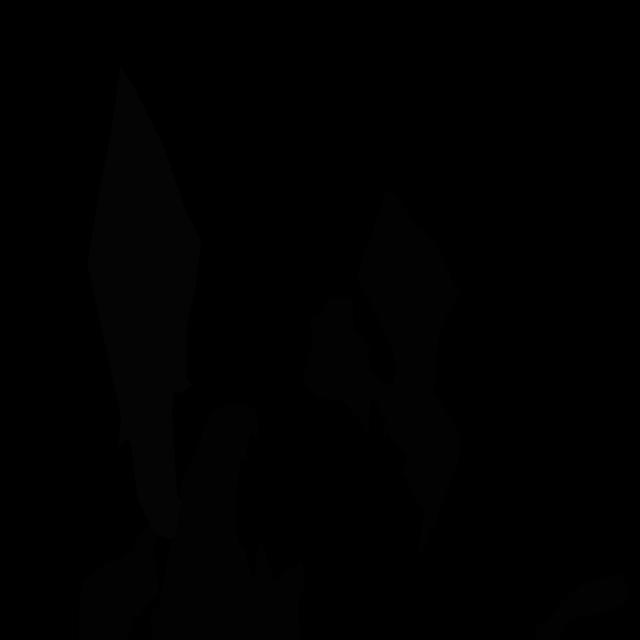cardboard: (302, 297, 462, 558), (149, 404, 259, 640), (356, 190, 461, 393), (78, 524, 156, 640), (240, 540, 305, 640), (534, 573, 630, 640), (134, 550, 160, 620)
soft_plastic: (88, 67, 202, 540)
